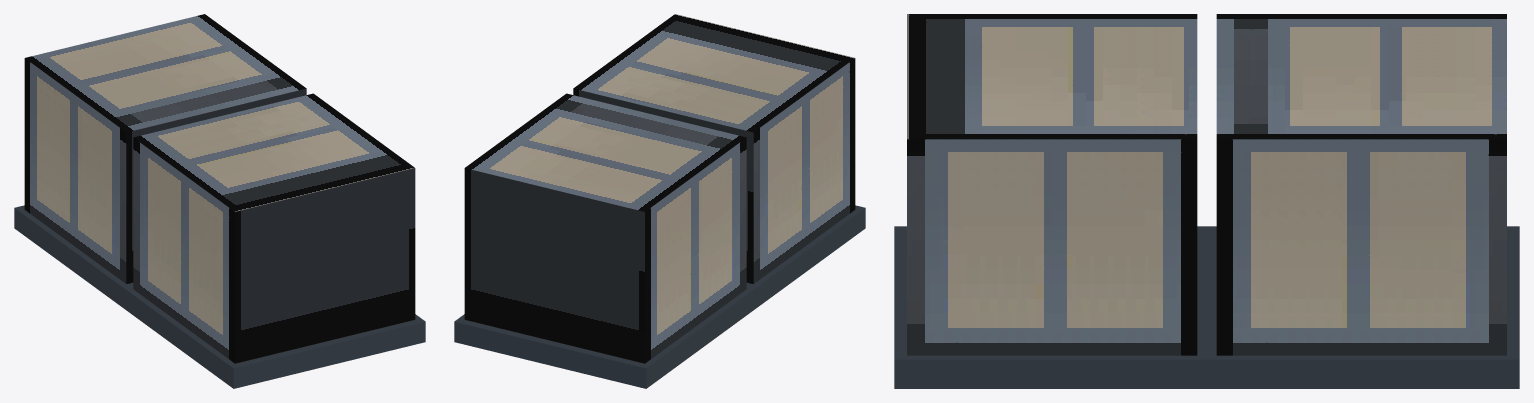
File: Building_Battery.glb
3 views of the same model, side by side, from view 1: azimuth 30°, elevation 25°; view 2: azimuth 150°, elevation 25°; view 3: azimuth 270°, elevation 25° (orthographic). The views are drawn at different scales.
Parts seen in each view (by area): view 1: Battery; view 2: Battery; view 3: Battery.
Boxes of the visible parts, box(x1,y1,x2,y2) form: Battery: box(14, 14, 425, 388); Battery: box(454, 14, 865, 388); Battery: box(894, 14, 1519, 388).
Bounding box in the file's own units: 0.98 × 0.84 × 1.94.
1 material, 1 textured.
